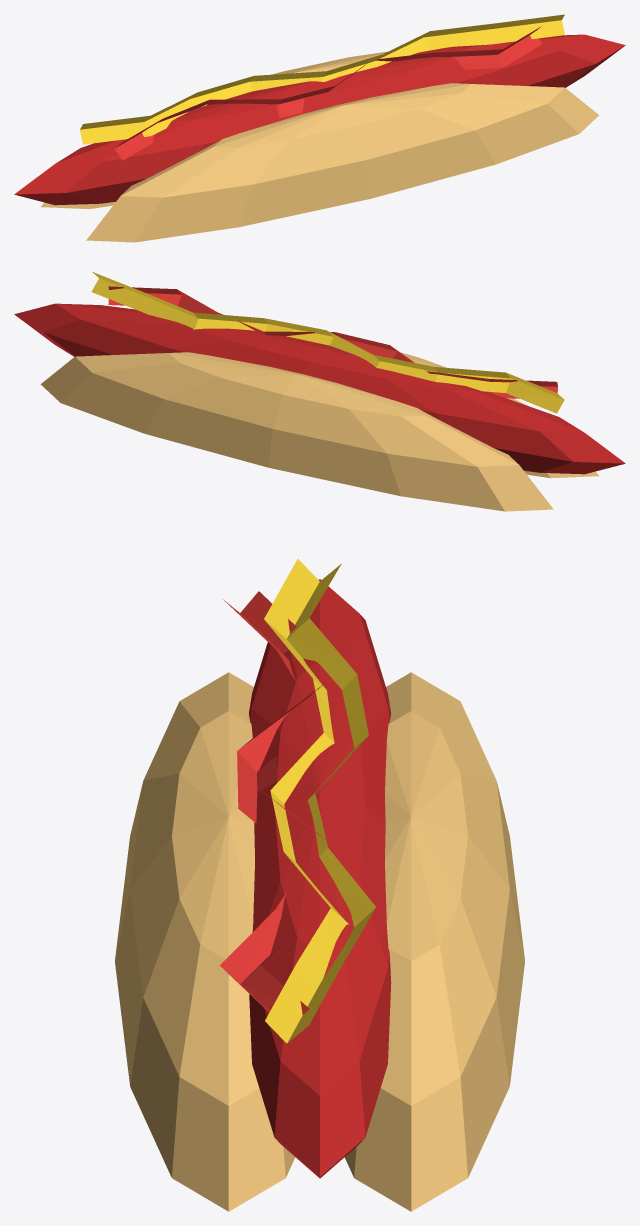
File: korvbrod.glb
3 views of the same model, one above another, from view 1: azimuth 30°, elevation 25°; view 2: azimuth 150°, elevation 25°; view 3: azimuth 270°, elevation 25° (orthographic). The views are drawn at different scales.
Visible parts, largest first — view 1: korvbrod; view 2: korvbrod; view 3: korvbrod.
Boxes of the visible parts, x1,y1,x2,y2 form: korvbrod: [14, 14, 625, 242]; korvbrod: [14, 272, 625, 511]; korvbrod: [115, 559, 524, 1211].
Size of the model in its own units: 0.62 by 0.092 by 0.18.
